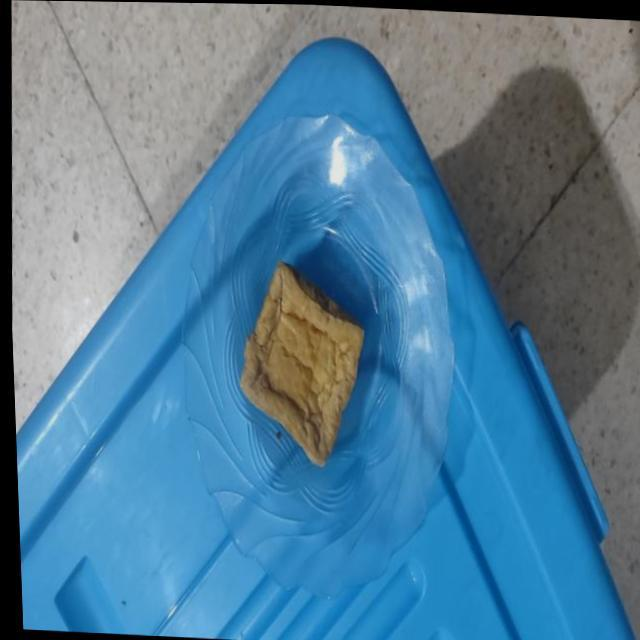tahu_goreng: (240, 260, 364, 466)
